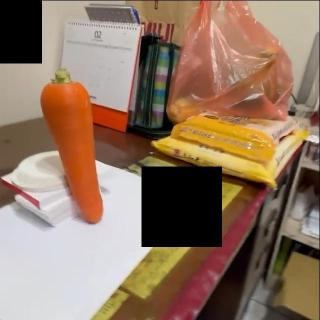carrot: (40, 69, 105, 223)
